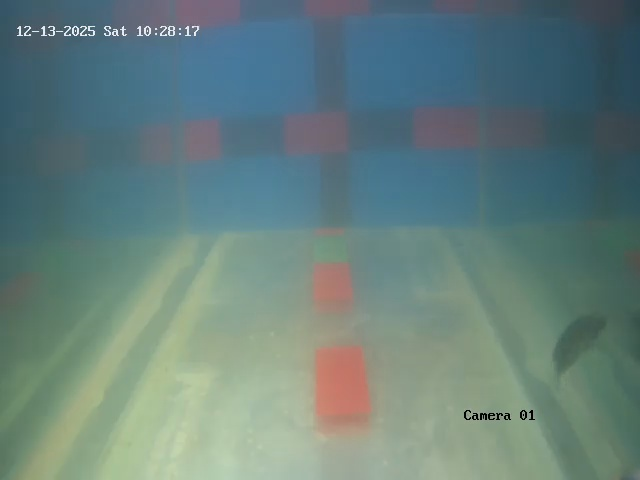fish: (549, 302, 609, 380)
